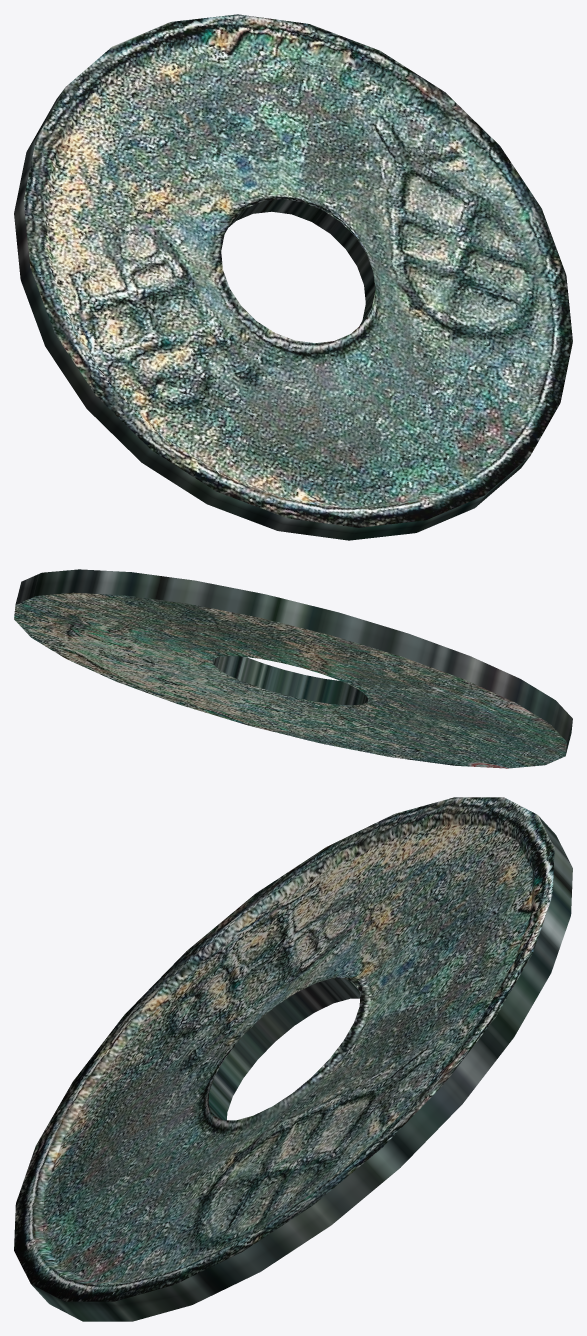
Rendered from huanqian.glb.
3 renders of one model, top to bottom at view 1: azimuth 30°, elevation 25°; view 2: azimuth 150°, elevation 25°; view 3: azimuth 270°, elevation 25°, orthographic. The views are drawn at different scales.
Visible parts, largest first — view 1: HuanCoin; view 2: HuanCoin; view 3: HuanCoin.
Boxes of the visible parts, x1=… form: HuanCoin: x1=14, y1=14, x2=572, y2=540; HuanCoin: x1=14, y1=569, x2=572, y2=768; HuanCoin: x1=14, y1=797, x2=572, y2=1321.
Bounding box in the file's own units: 0.0409 × 0.0268 × 0.0331.
1 material, 1 textured.
